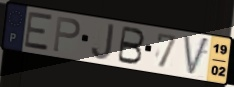7: (155, 32, 179, 70)
B: (116, 24, 147, 66)
E: (23, 11, 53, 53)
J: (90, 23, 116, 62)
P: (51, 14, 82, 54)
V: (182, 34, 211, 78)
